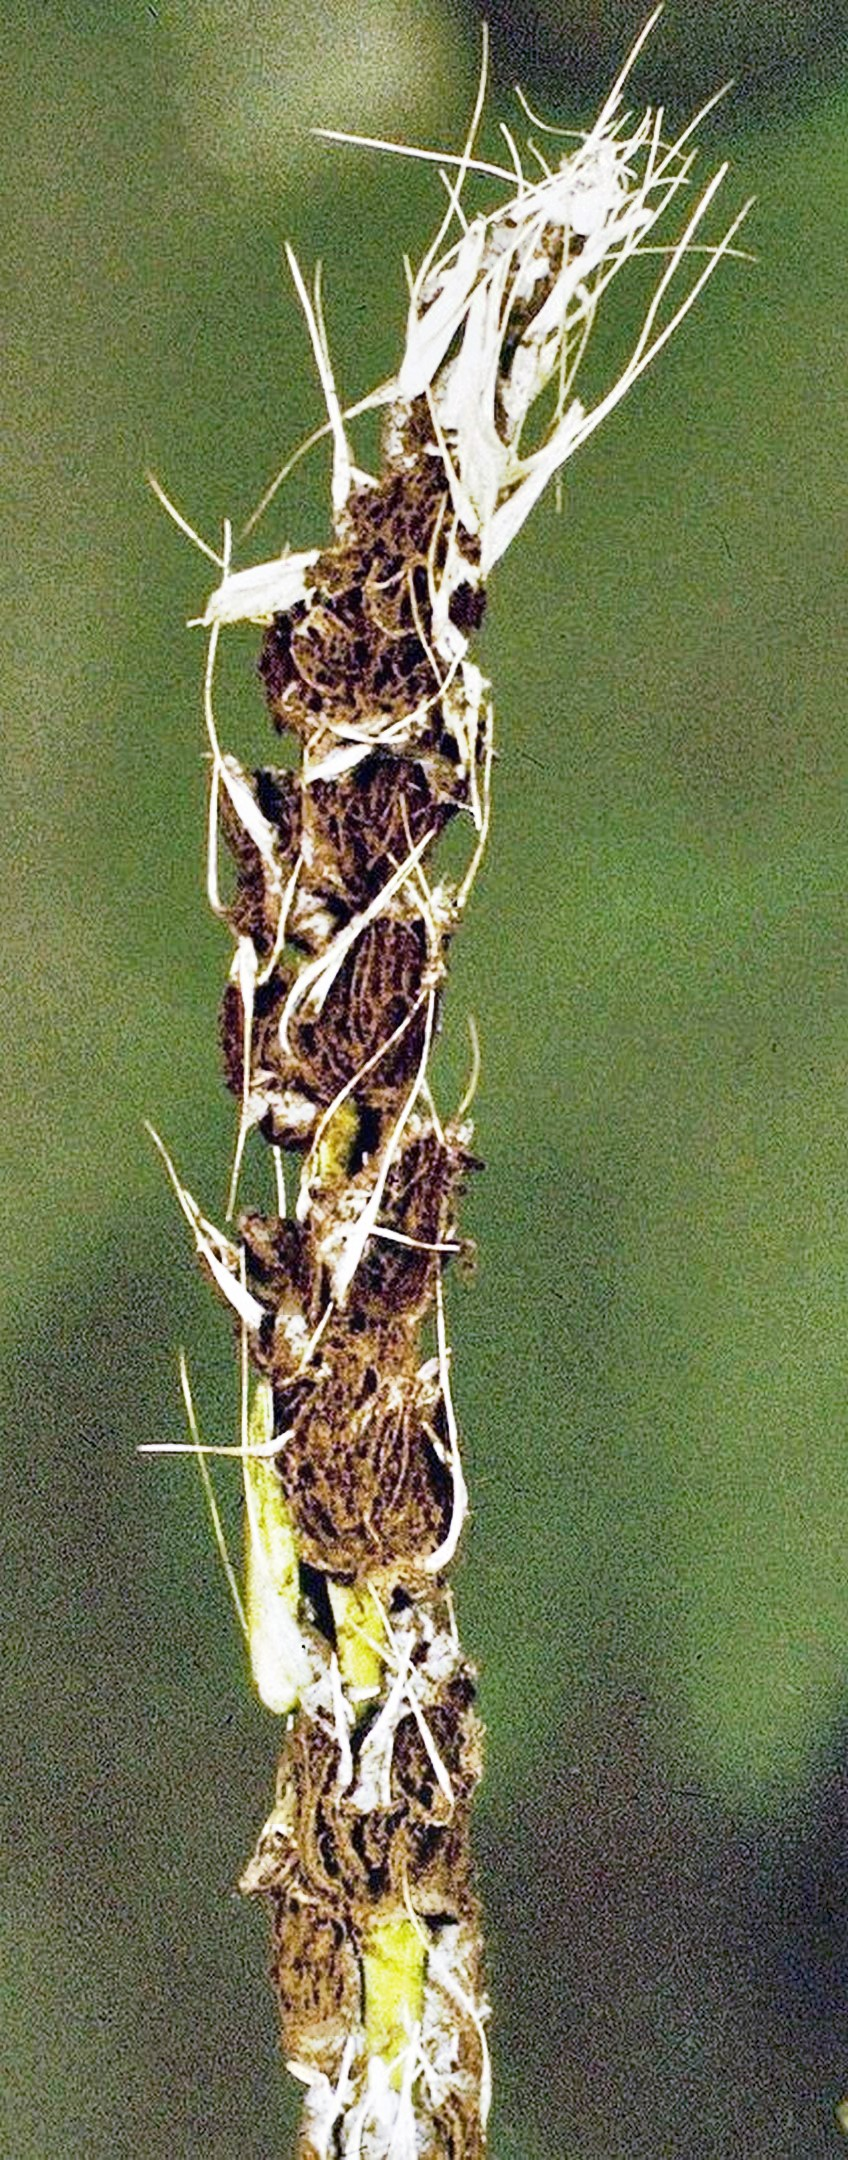Wheat Loose Smut: (120, 293, 586, 2057)
